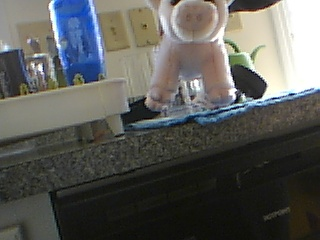piggy: (143, 1, 239, 113)
